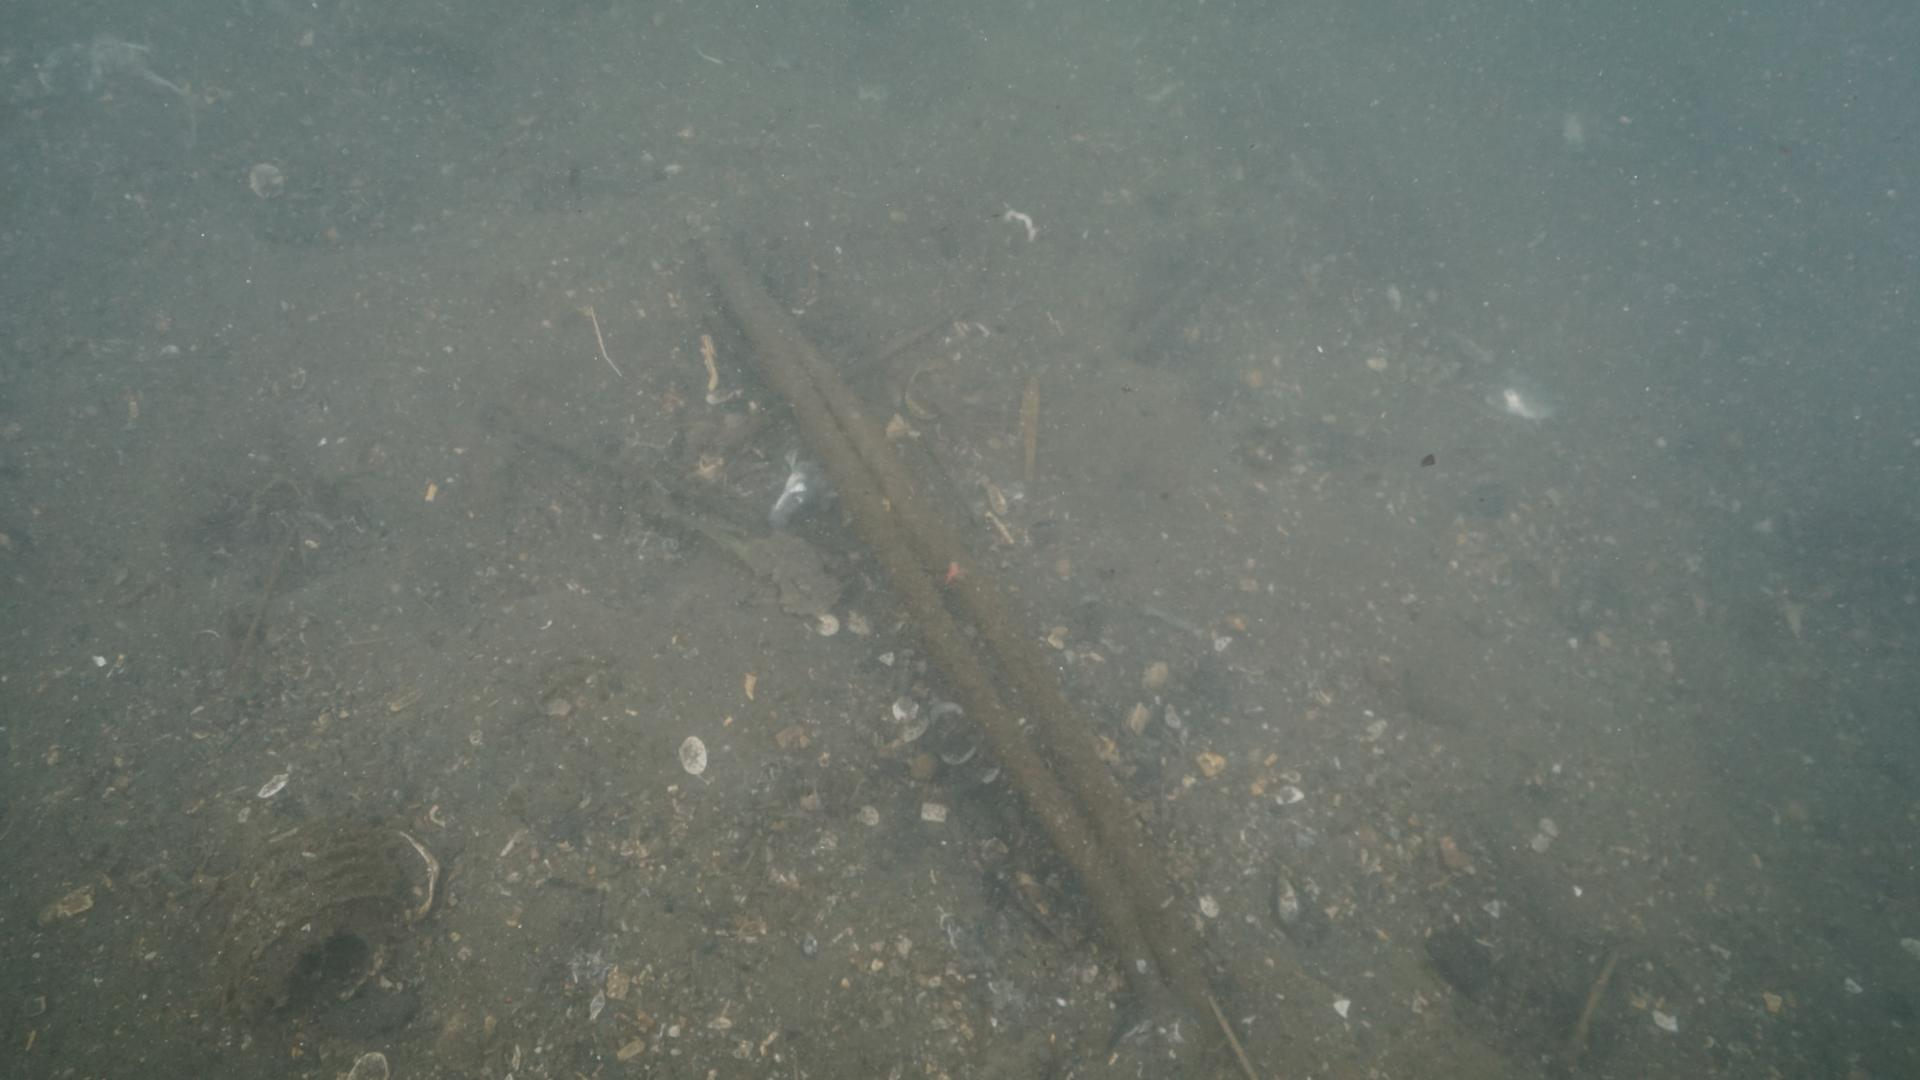bundle of ropes: (700, 233, 1211, 1014)
